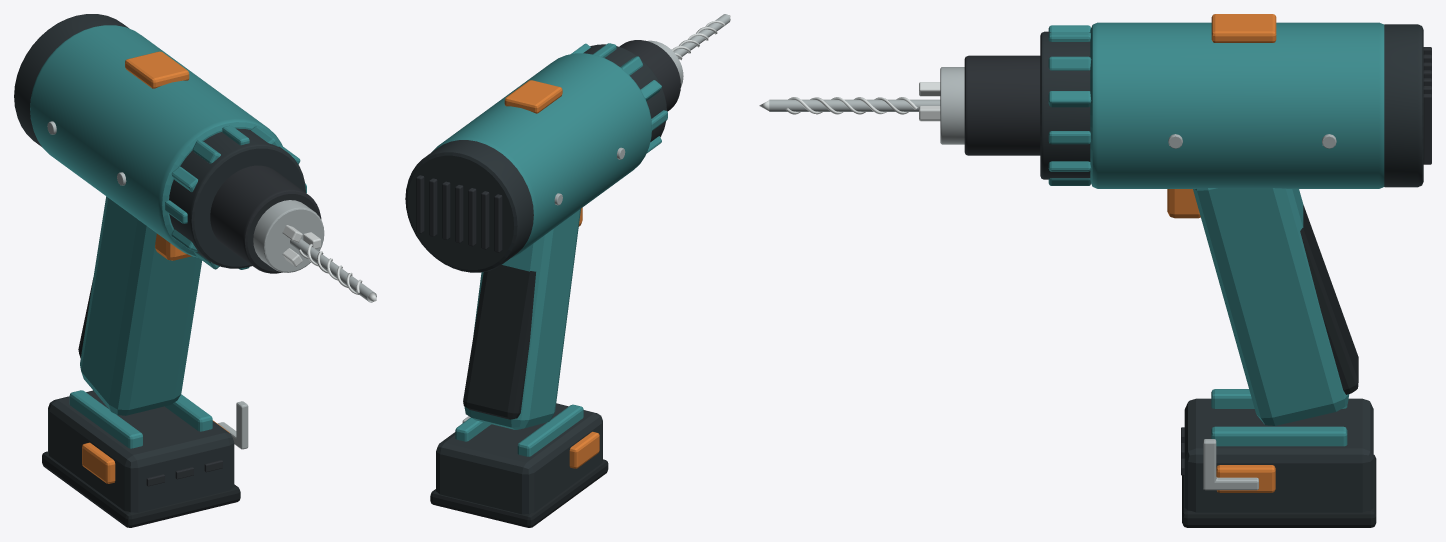
The model's file is city-cordless-drill.glb.
3 views of the same model, side by side, from view 1: azimuth 30°, elevation 25°; view 2: azimuth 150°, elevation 25°; view 3: azimuth 270°, elevation 25° (orthographic). The views are drawn at different scales.
Visible parts, largest first — view 1: Assembly | Muted teal molded tool body, Assembly | Graphite tool overmold, Assembly | Dark recess and fasteners, Assembly | Satin tool steel, Assembly | Soft black grip rubber, Assembly | Unbranded orange controls, Assembly | Bright cutting metal appearance; view 2: Assembly | Muted teal molded tool body, Assembly | Graphite tool overmold, Assembly | Soft black grip rubber, Assembly | Dark recess and fasteners, Assembly | Unbranded orange controls, Assembly | Satin tool steel; view 3: Assembly | Muted teal molded tool body, Assembly | Graphite tool overmold, Assembly | Dark recess and fasteners, Assembly | Soft black grip rubber, Assembly | Satin tool steel, Assembly | Unbranded orange controls, Assembly | Bright cutting metal appearance.
Part boxes in pixels (x1=…): Assembly | Muted teal molded tool body: x1=30, y1=25, x2=306, y2=448; Assembly | Graphite tool overmold: x1=14, y1=14, x2=305, y2=512; Assembly | Dark recess and fasteners: x1=146, y1=165, x2=321, y2=486; Assembly | Satin tool steel: x1=47, y1=121, x2=376, y2=449; Assembly | Soft black grip rubber: x1=42, y1=278, x2=240, y2=527; Assembly | Unbranded orange controls: x1=82, y1=51, x2=229, y2=483; Assembly | Bright cutting metal appearance: x1=282, y1=225, x2=376, y2=301; Assembly | Muted teal molded tool body: x1=431, y1=43, x2=667, y2=456; Assembly | Graphite tool overmold: x1=405, y1=44, x2=666, y2=514; Assembly | Soft black grip rubber: x1=430, y1=265, x2=608, y2=527; Assembly | Dark recess and fasteners: x1=416, y1=40, x2=680, y2=252; Assembly | Unbranded orange controls: x1=504, y1=80, x2=599, y2=468; Assembly | Satin tool steel: x1=462, y1=14, x2=730, y2=422; Assembly | Muted teal molded tool body: x1=1048, y1=22, x2=1384, y2=446; Assembly | Graphite tool overmold: x1=1040, y1=24, x2=1423, y2=512; Assembly | Dark recess and fasteners: x1=964, y1=47, x2=1431, y2=475; Assembly | Soft black grip rubber: x1=1182, y1=205, x2=1376, y2=527; Assembly | Satin tool steel: x1=769, y1=67, x2=1336, y2=490; Assembly | Unbranded orange controls: x1=1167, y1=14, x2=1276, y2=492; Assembly | Bright cutting metal appearance: x1=759, y1=82, x2=940, y2=121.
Bounding box in the file's own units: 0.0975 × 0.284 × 0.3635.
